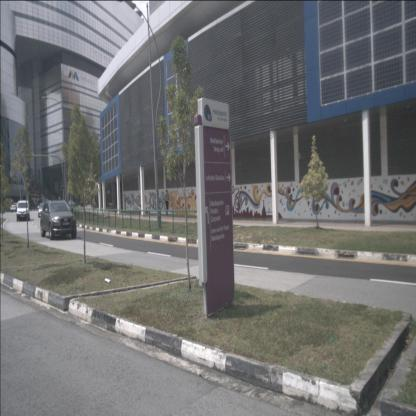human-pedestrian-adult: (165, 189, 170, 215), (93, 193, 96, 212)
vehicle-car: (40, 200, 77, 240), (17, 200, 30, 222), (38, 203, 49, 218), (10, 203, 22, 212), (68, 200, 76, 208)
